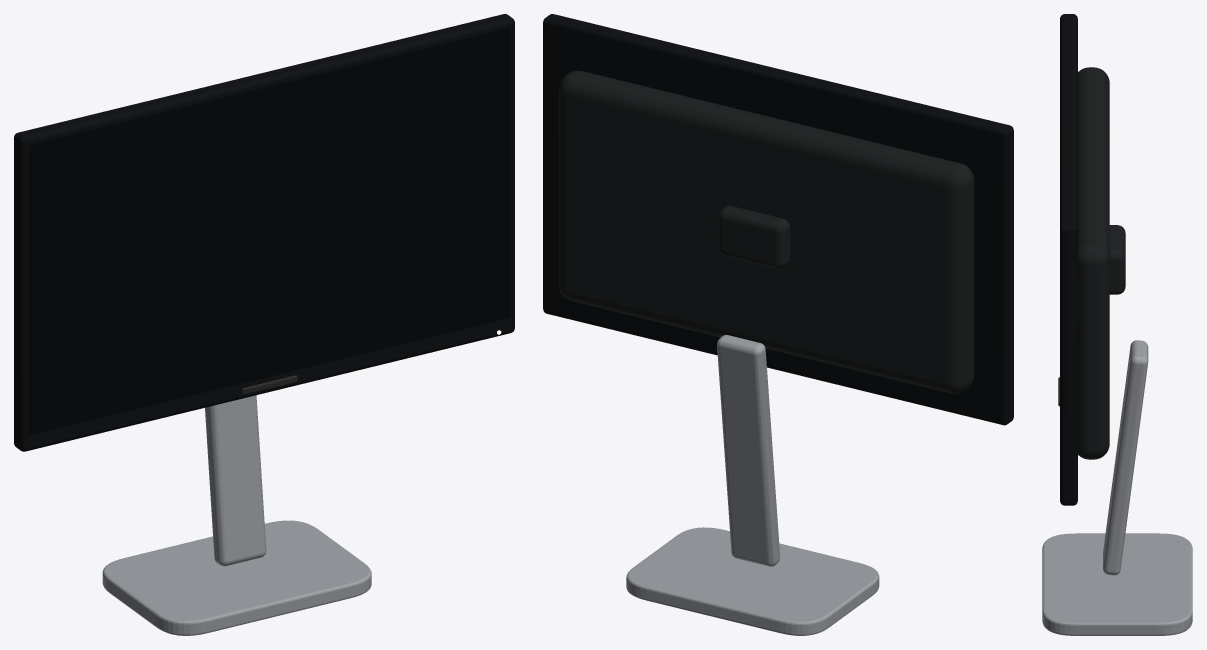
Rendered from monitor.glb.
3 renders of one model, left to right at view 1: azimuth 30°, elevation 25°; view 2: azimuth 150°, elevation 25°; view 3: azimuth 270°, elevation 25°, orthographic. The views are drawn at different scales.
Parts seen in each view (by area): view 1: bezel; view 2: bezel; view 3: bezel.
Boxes of the visible parts, bbox=[...] form: bezel: bbox=[14, 14, 514, 635]; bezel: bbox=[543, 14, 1013, 635]; bezel: bbox=[1042, 14, 1192, 635].
Bounding box in the file's own units: 0.628 × 0.643 × 0.186.
Materials: 2 (2 with a texture image).
